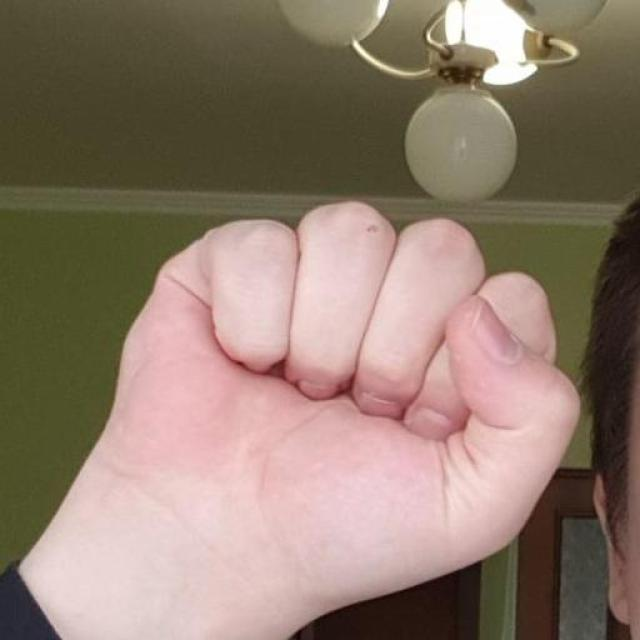hand: (14, 199, 582, 639)
